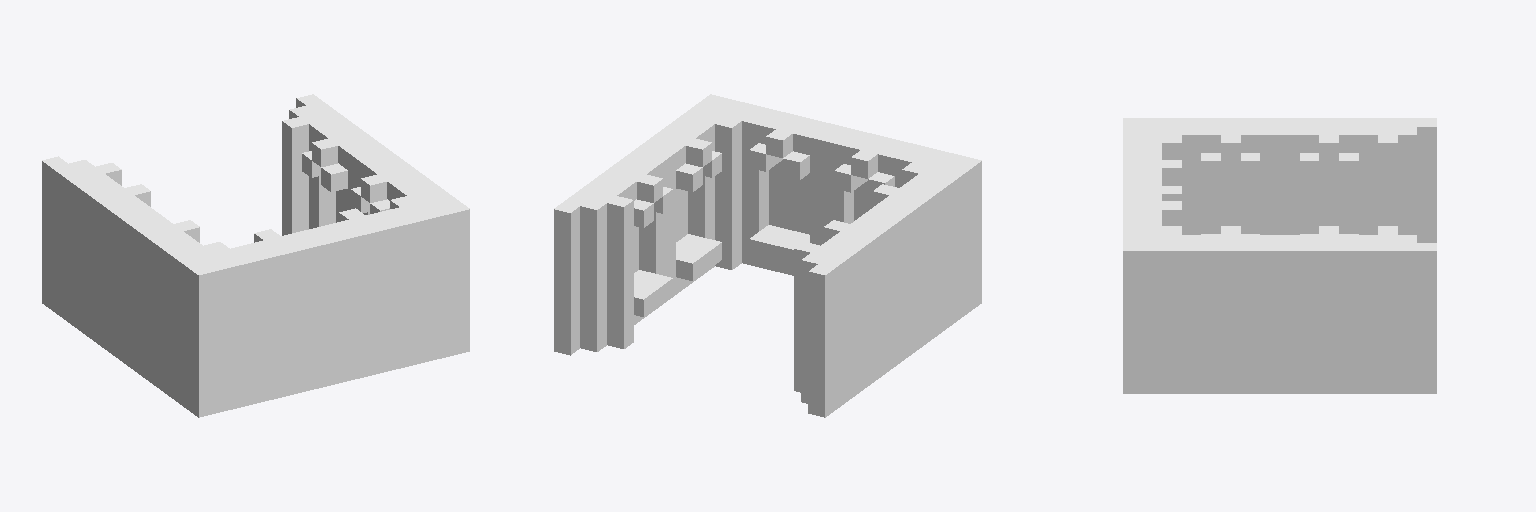
The model's file is towar-22.obj.
3 views of the same model, side by side, from view 1: azimuth 30°, elevation 25°; view 2: azimuth 150°, elevation 25°; view 3: azimuth 270°, elevation 25° (orthographic).
Visible parts, largest first — view 1: towar-22; view 2: towar-22; view 3: towar-22.
Part boxes in pixels (x1,y1,x2,y2): towar-22: (42, 94, 469, 417); towar-22: (554, 94, 981, 417); towar-22: (1123, 118, 1436, 393).
Bounding box in the file's own units: 16 × 8 × 16.